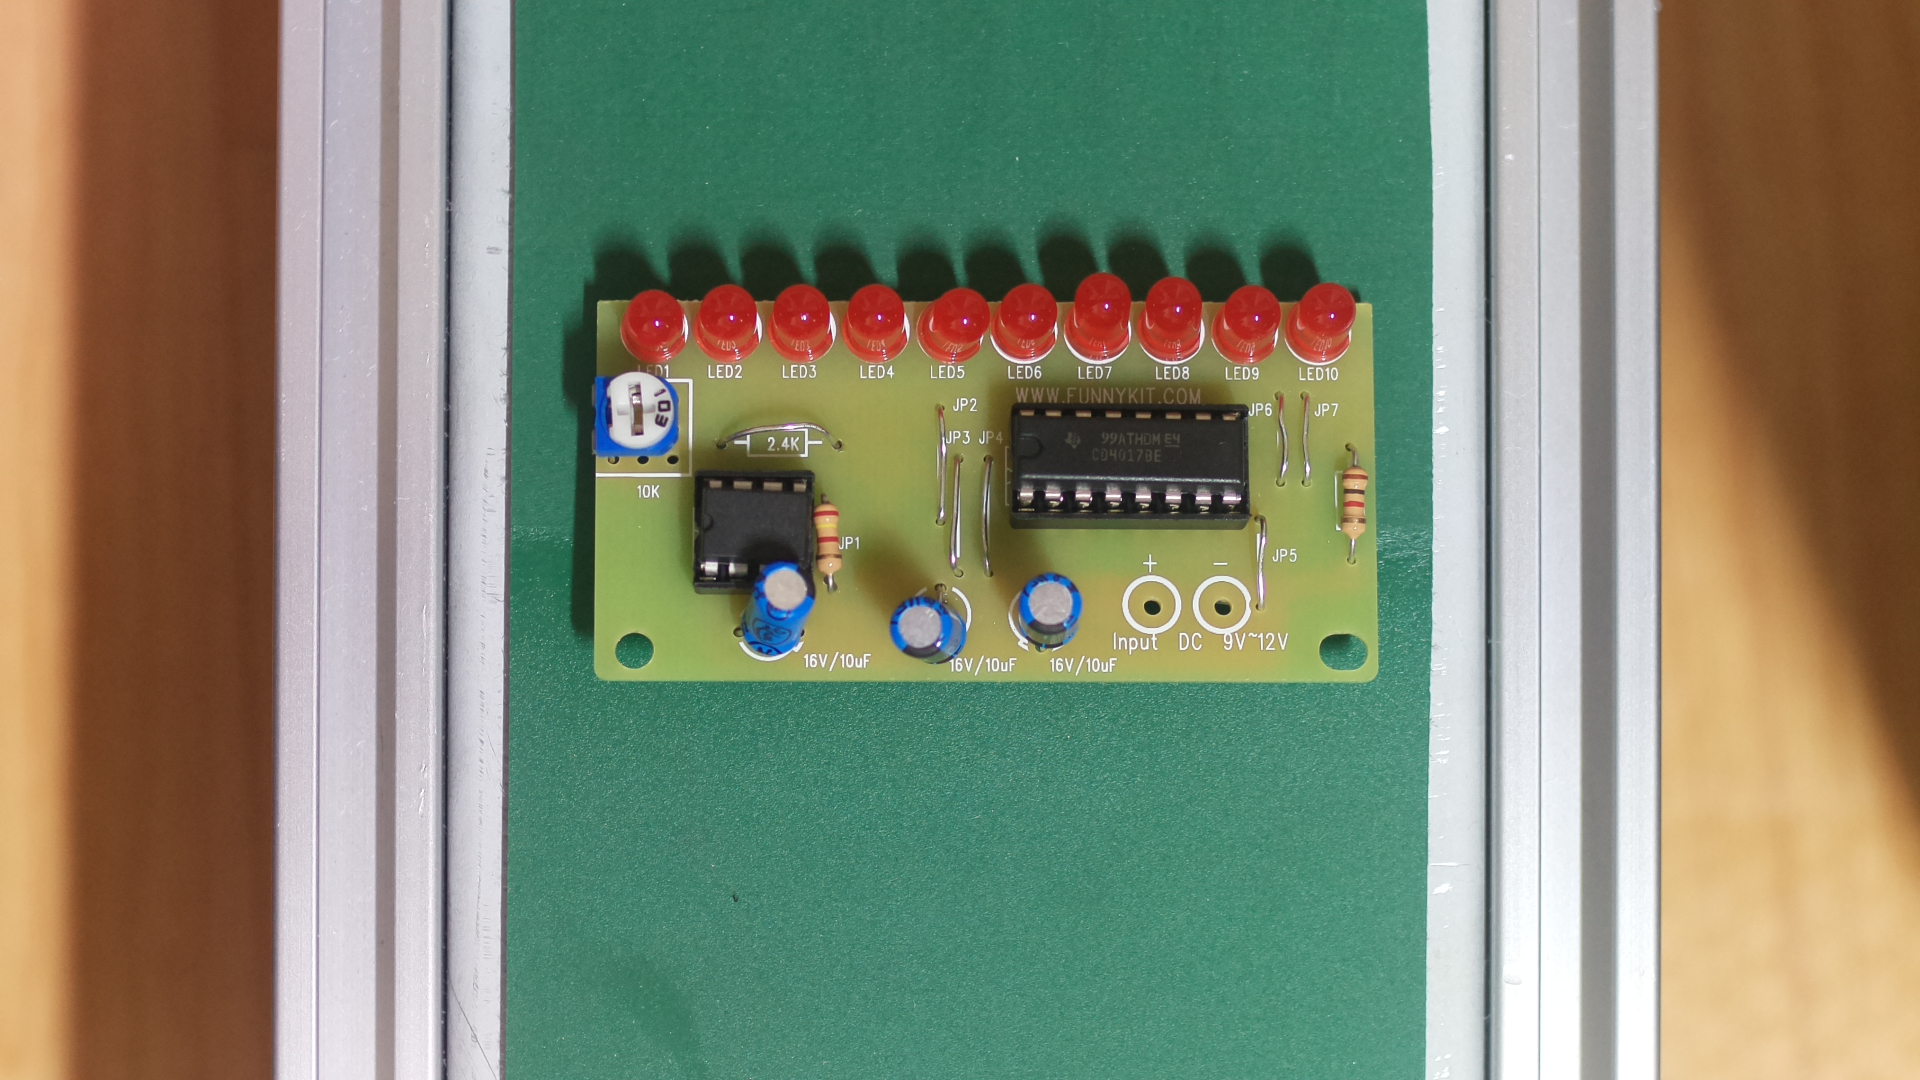B_Misordered: (583, 266, 1393, 705)
